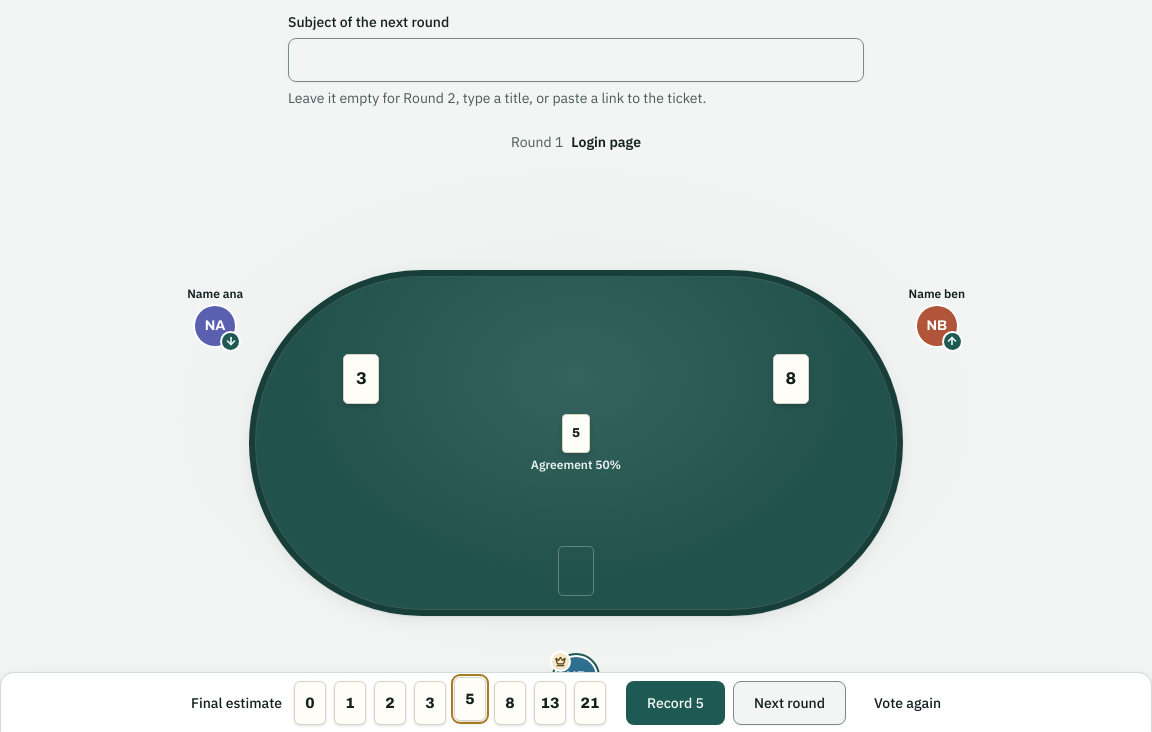
Test: the final estimate after a change (#29) › says nothing while the suggestion holds, and lets the PO keep the old final
Step 1. Click the button "Record 5" → (675, 703), box [626, 681, 725, 725]
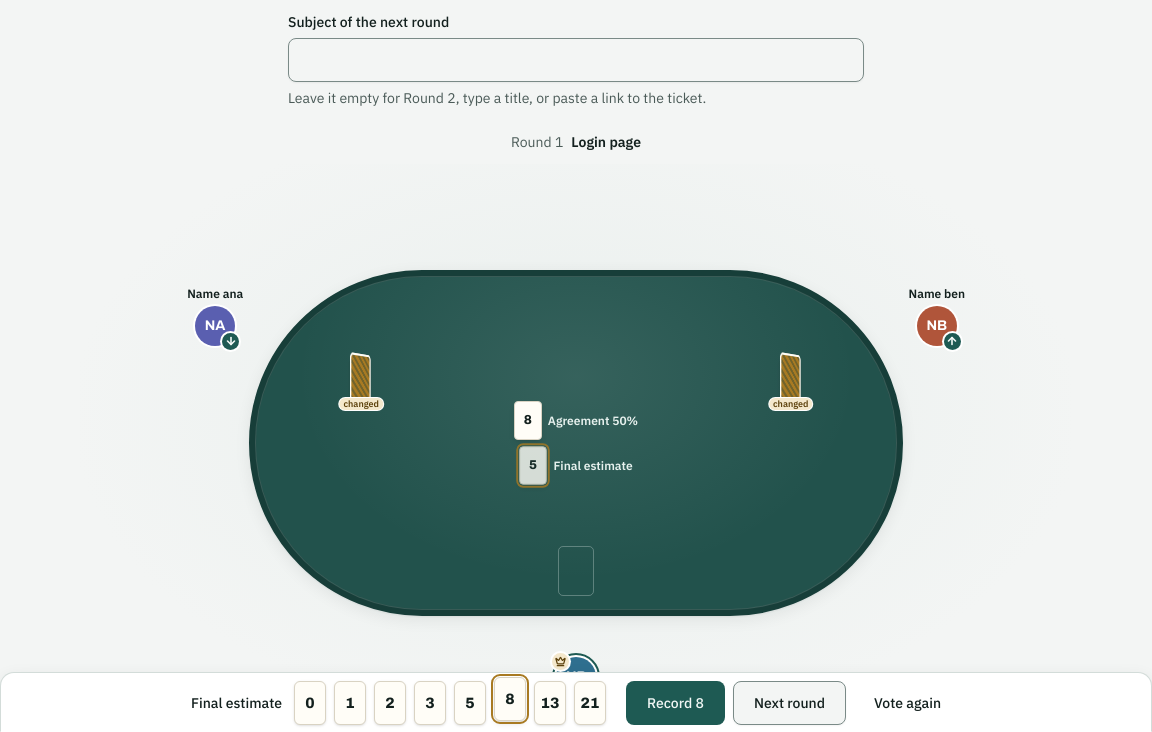
# The PO picks 5 again: it is the final already, and nothing is sent.
Step 2. Click the radio button labelled "5" → (470, 703), box [454, 681, 486, 725]
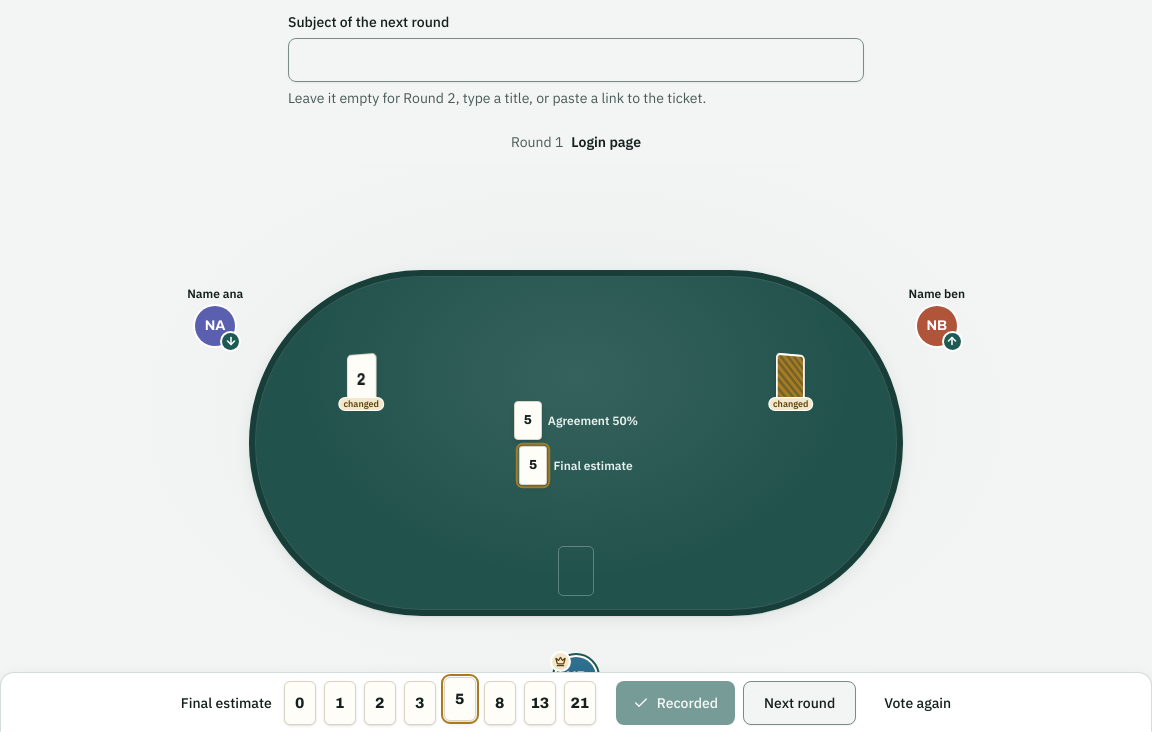
Check: the button "Recorded" is shown, box [616, 681, 735, 725]
